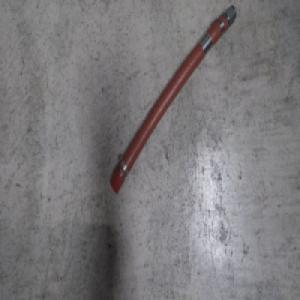Hose: (108, 3, 237, 196)
